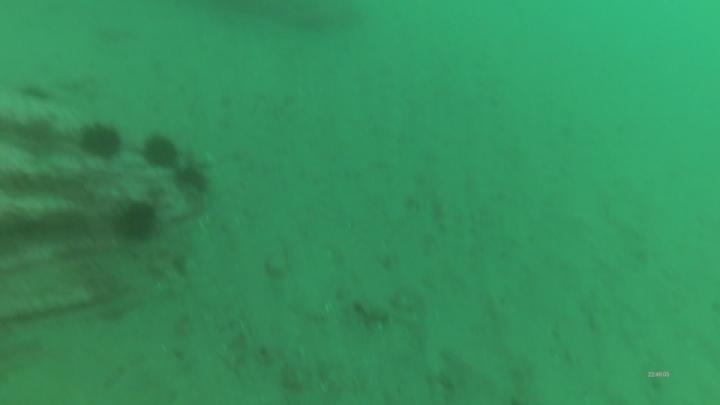echinus: (113, 198, 160, 242), (79, 119, 126, 163), (141, 132, 180, 173), (173, 165, 213, 201), (16, 82, 51, 104)
